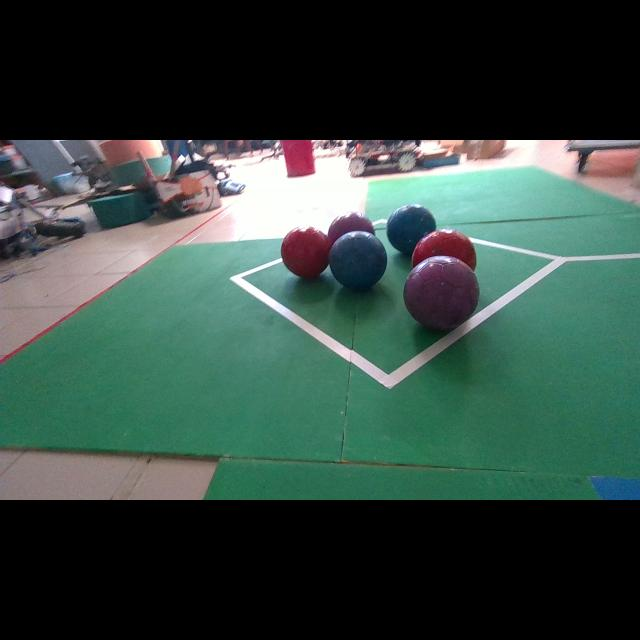B: (329, 231, 388, 289), (386, 204, 436, 254)
P: (404, 256, 479, 330), (328, 211, 375, 243)
R: (412, 229, 476, 270), (281, 228, 331, 279)
